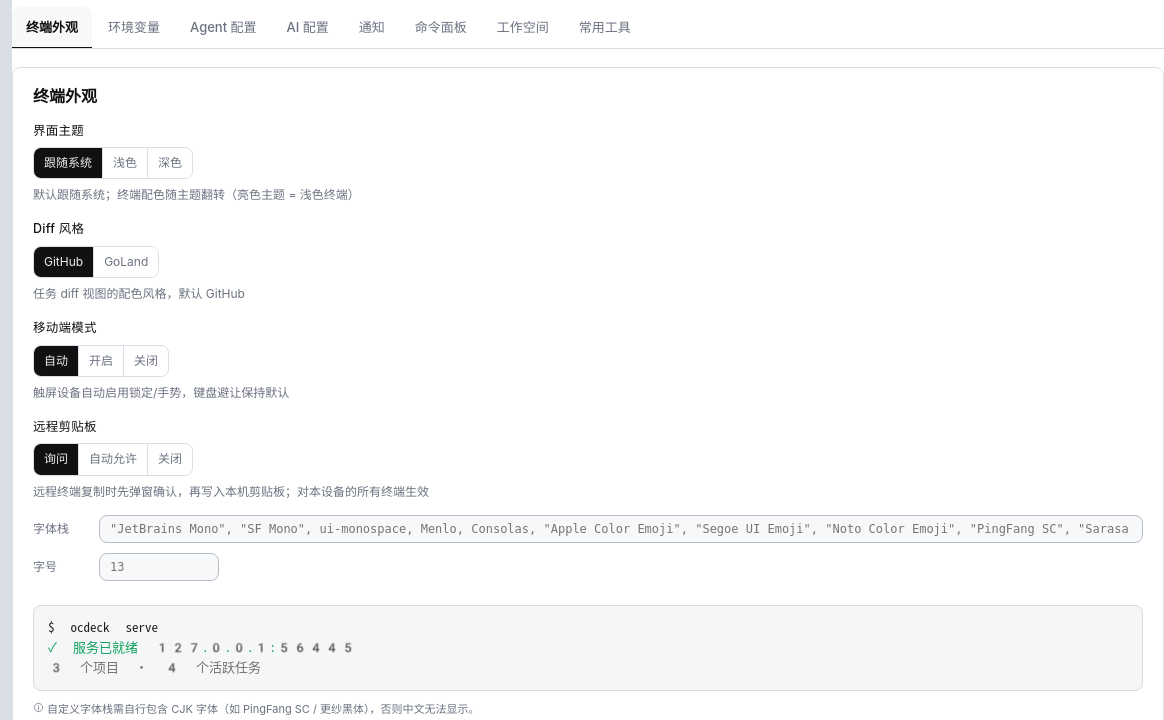
AppearancePanel 移动端模式控件（task 6.1） › mode 写失败 → 显示错误行、分段控件保持旧值、不渲染子开关、不派发事件
The image size is (1164, 720).
(page scrolled)
What coordinates should you click on to do the following:
click the button "开启"
I would click on:
 (100, 361)
Its box is [78,346,123,376].
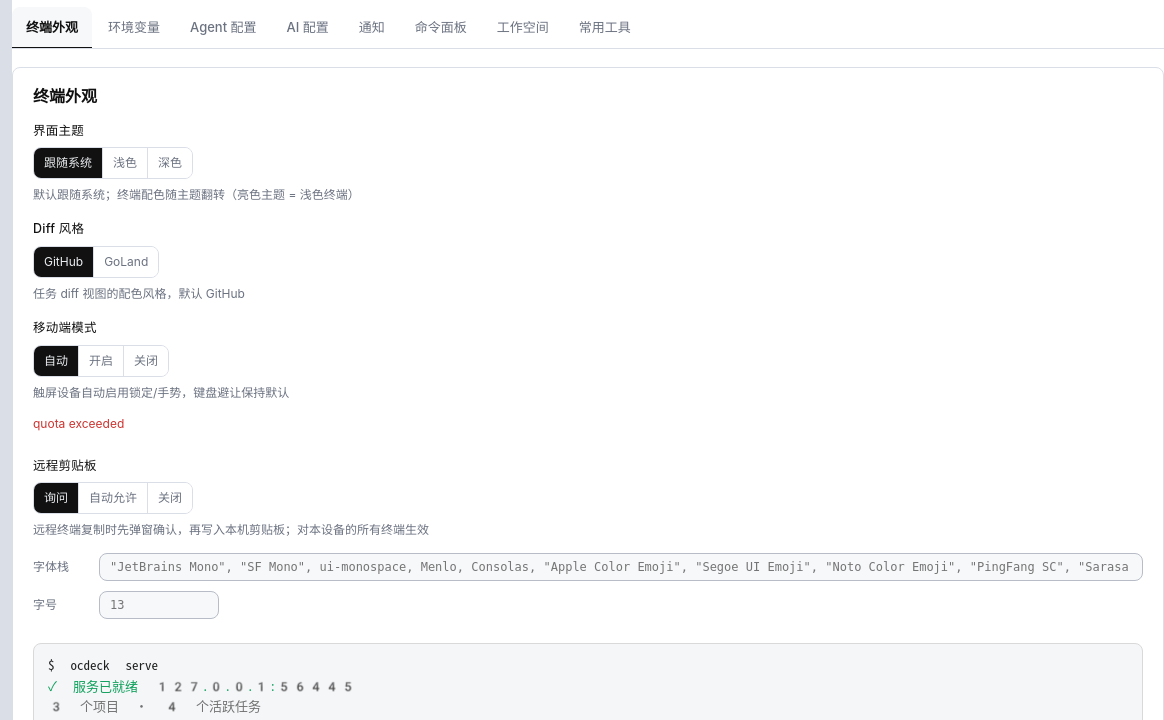
Check: the text with class "error-line" reads "quota exceeded", box [33,416,124,431]
